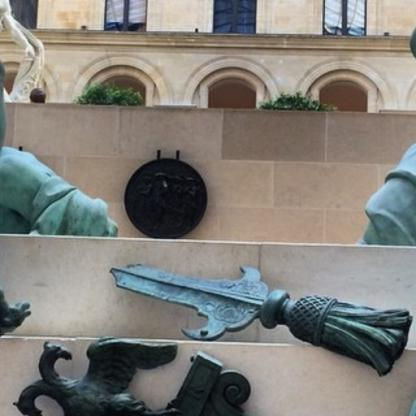knife: (104, 257, 412, 380)
